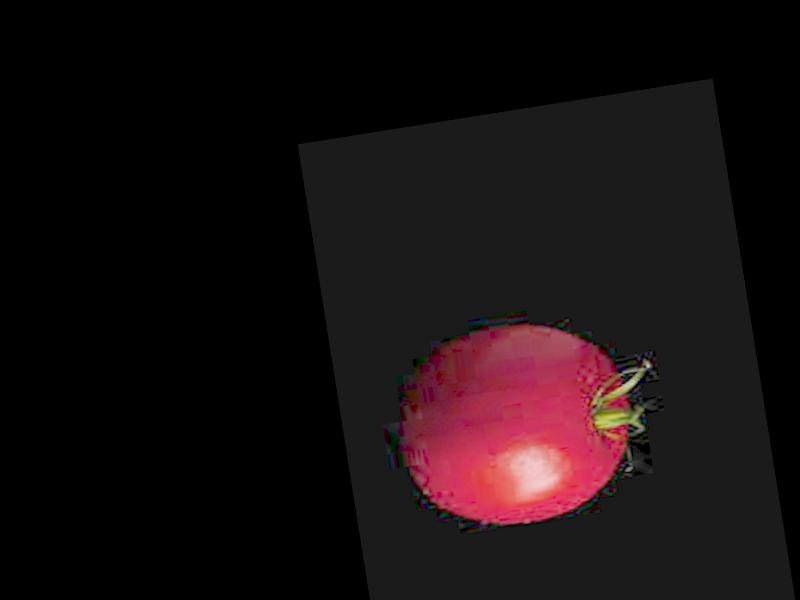Tomato: (394, 310, 642, 537)
